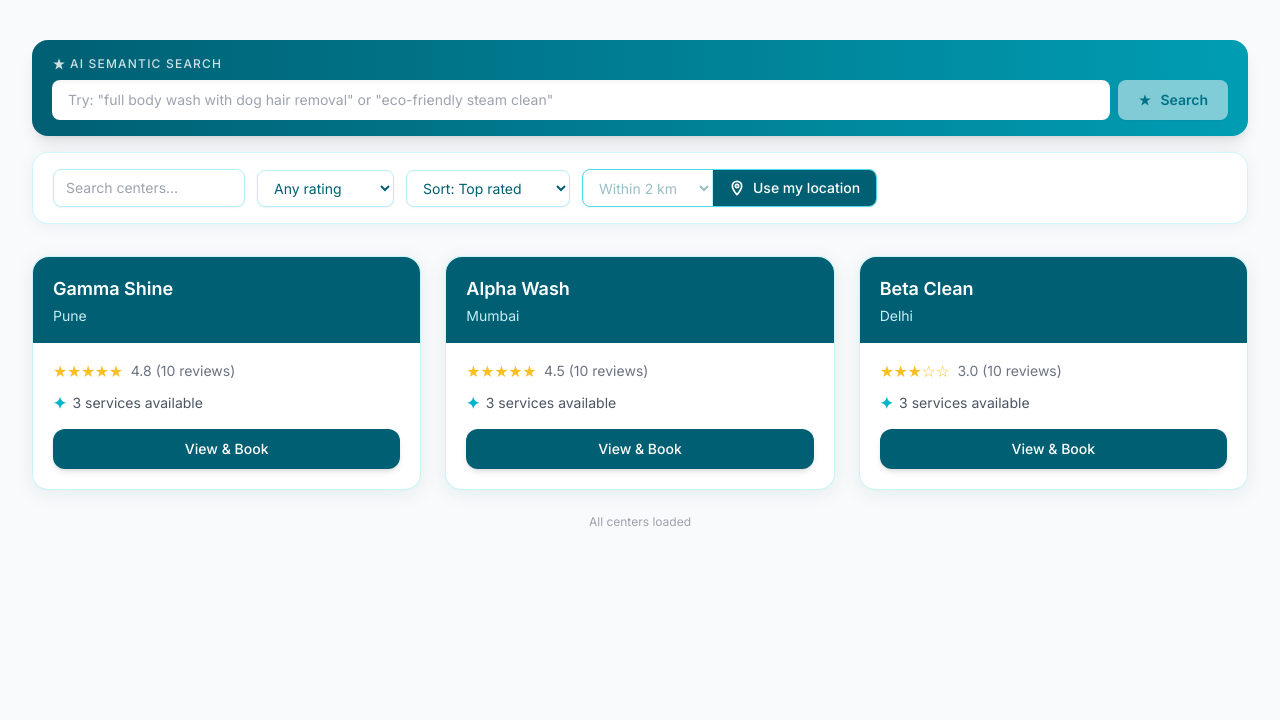
Test: CentersListClient — AI search › shows AI result cards after a successful search
Type "eco steam" into the field with placeholder "eco-friendly steam clean".
click(581, 100); type("eco steam")  # box x1=52 y1=80 x2=1110 y2=120
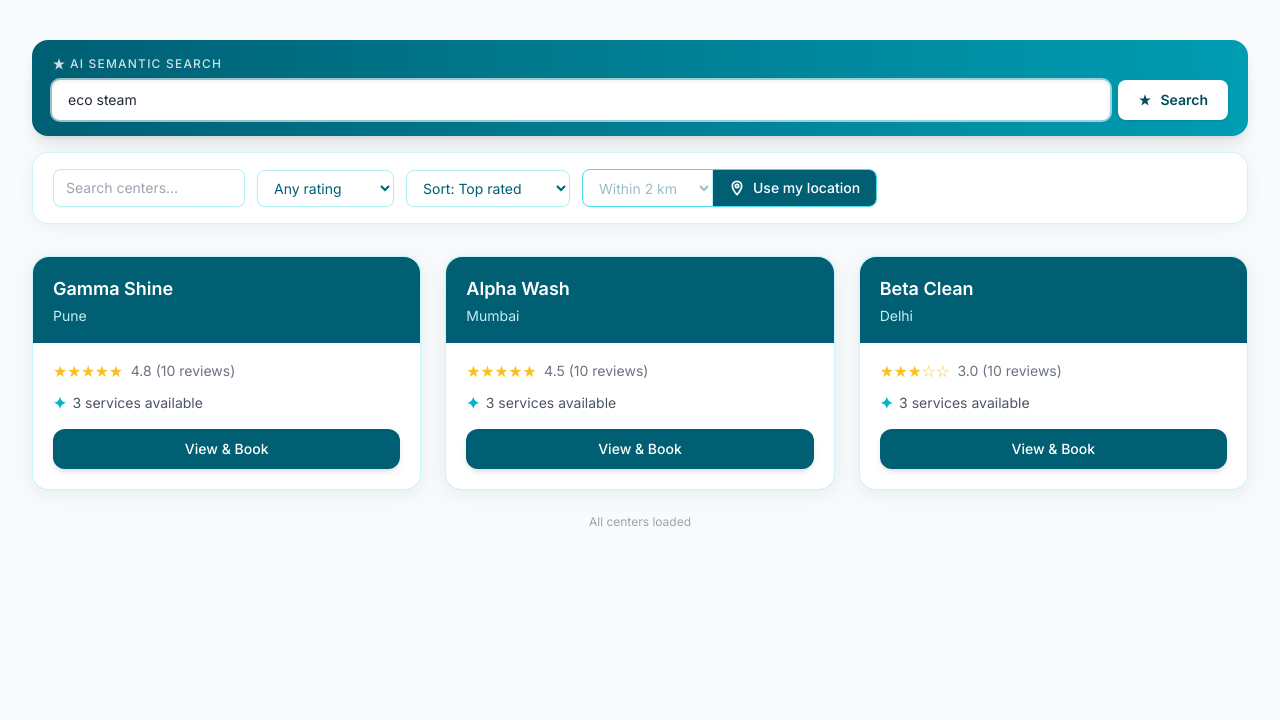
Click the button "Search".
click(1173, 100)  # box x1=1118 y1=80 x2=1228 y2=120
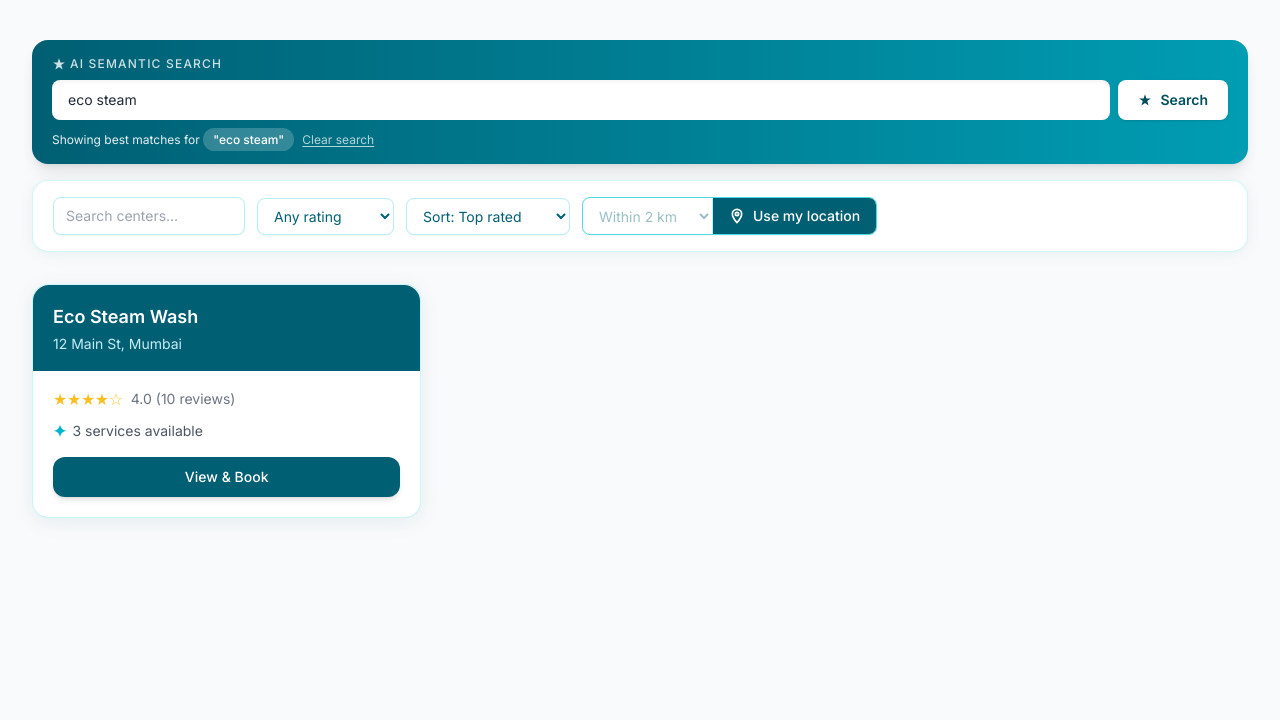
Now the heading "Eco Steam Wash" is shown, box x1=53 y1=305 x2=198 y2=330
Now the text "Showing best matches for \"eco steam\"" is shown, box x1=52 y1=132 x2=294 y2=148
